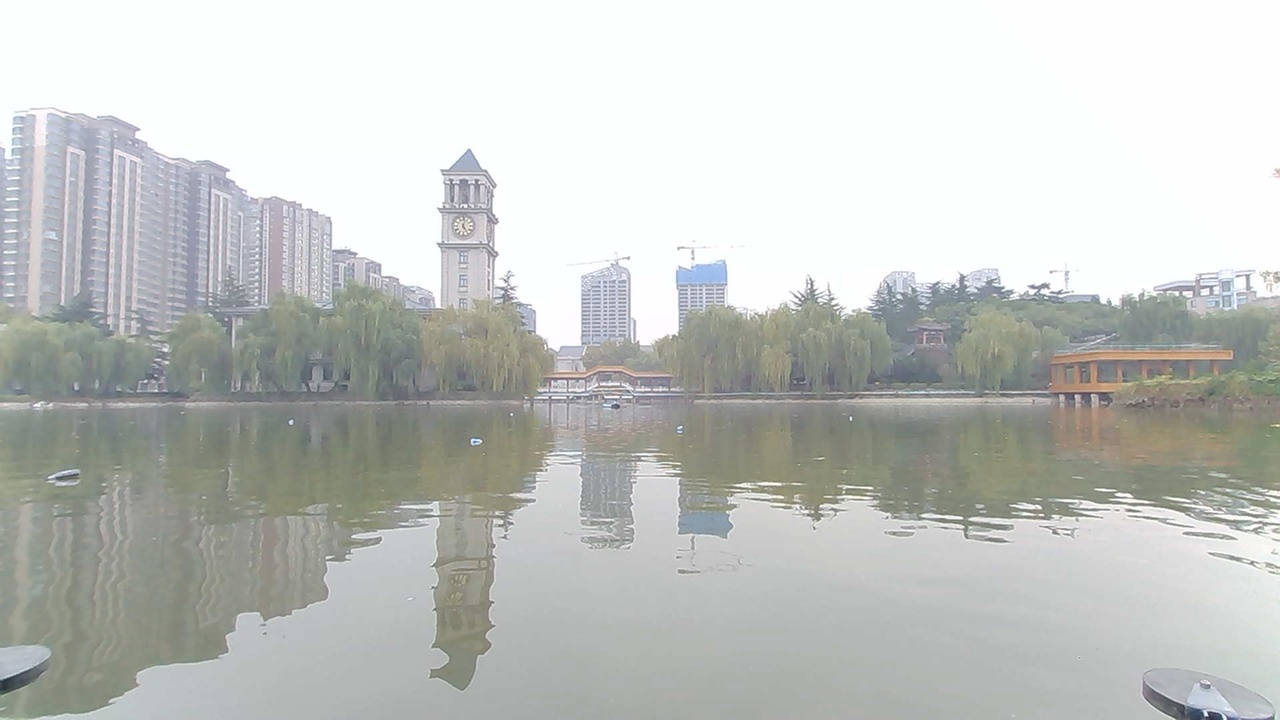bottle: (38, 461, 111, 494), (673, 406, 707, 433), (278, 409, 316, 433), (839, 404, 869, 430), (459, 435, 496, 456), (507, 406, 536, 428)
